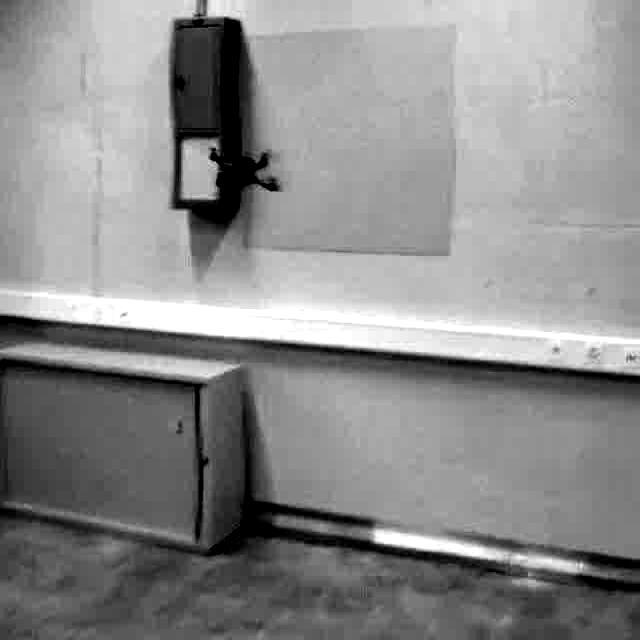drone: (204, 138, 290, 200)
